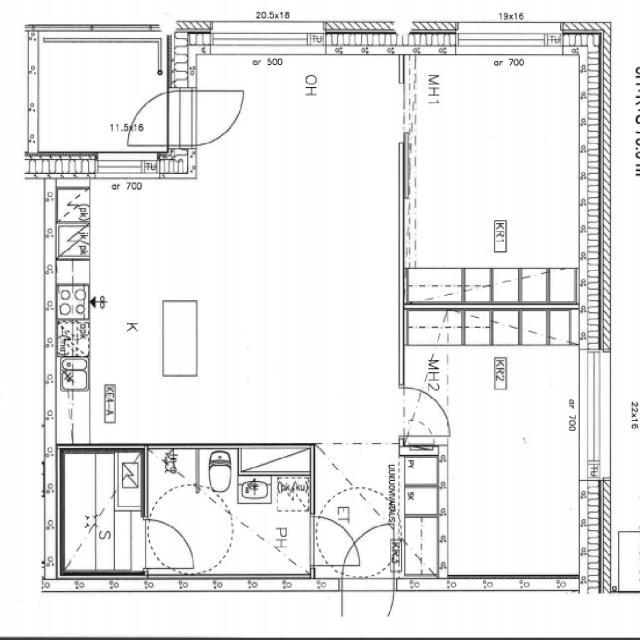door: (115, 91, 196, 145), (168, 91, 248, 145), (342, 524, 394, 592), (342, 578, 394, 640), (141, 520, 194, 569), (310, 516, 361, 565), (399, 388, 449, 436)
